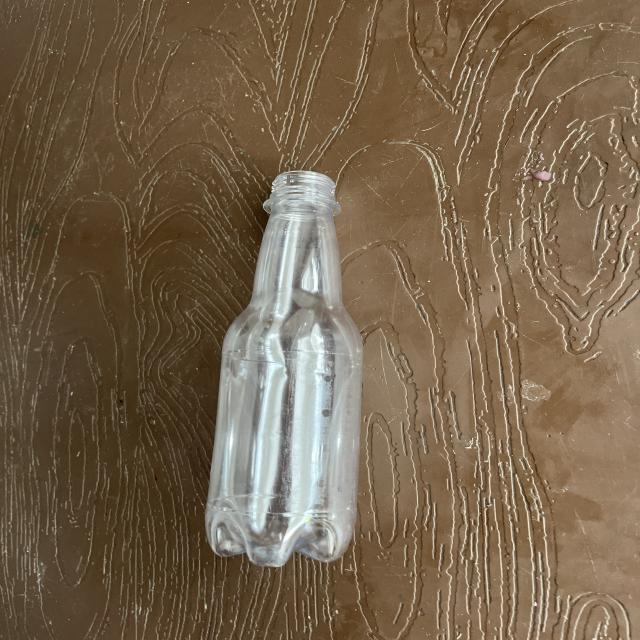PET_ClearBottle: (199, 170, 372, 560)
